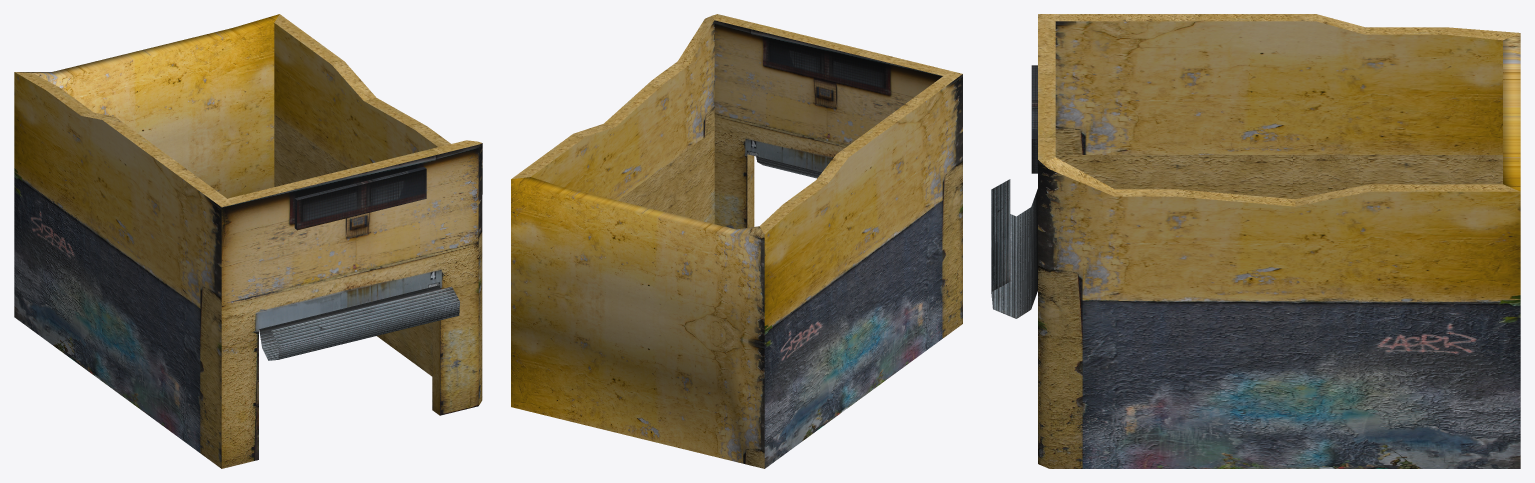
Rendered from building2.obj.
3 renders of one model, left to right at view 1: azimuth 30°, elevation 25°; view 2: azimuth 150°, elevation 25°; view 3: azimuth 270°, elevation 25°, orthographic. The views are drawn at different scales.
Parts seen in each view (by area): view 1: material27; view 2: material27; view 3: material27.
Boxes of the visible parts, x1,y1,x2,y2 form: material27: [14, 14, 482, 468]; material27: [511, 14, 962, 468]; material27: [991, 14, 1520, 468].
Size of the model in its own units: 241 by 227 by 358.
1 material, 1 textured.
